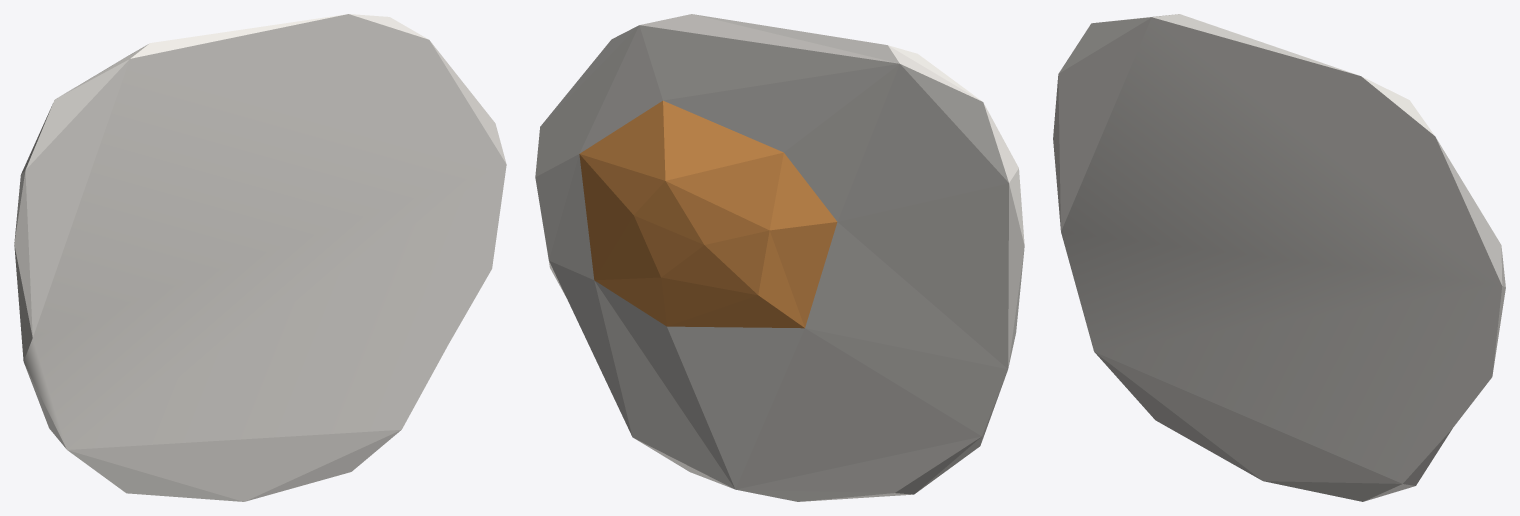
File: Fried Egg.fbx
3 renders of one model, left to right at view 1: azimuth 30°, elevation 25°; view 2: azimuth 150°, elevation 25°; view 3: azimuth 330°, elevation 25°, orthographic. The views are drawn at different scales.
Visible parts, largest first — view 1: Fried Egg; view 2: Fried Egg; view 3: Fried Egg.
Part boxes in pixels (<box>): Fried Egg: <box>14,14,506,501</box>; Fried Egg: <box>535,14,1024,501</box>; Fried Egg: <box>1053,14,1505,501</box>.
Bounding box in the file's own units: 0.1767 × 0.1659 × 0.0174.
